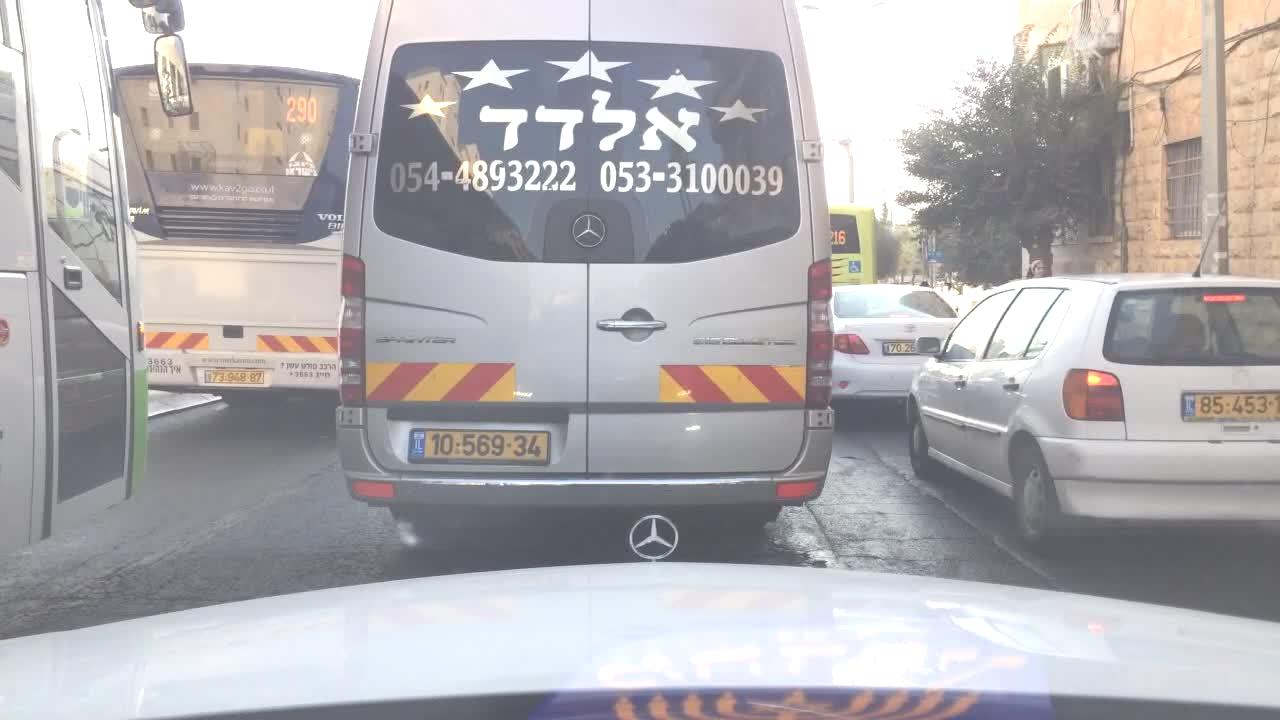Mercedes: (608, 496, 700, 571), (565, 202, 608, 268)
